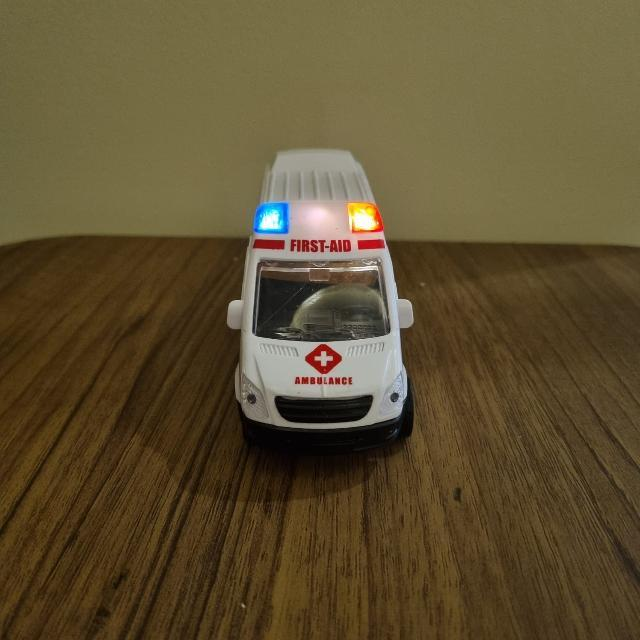emergency-vehicle: (228, 146, 414, 464)
